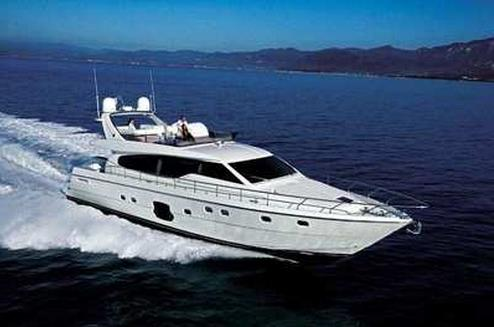yacht: (65, 68, 431, 265)
